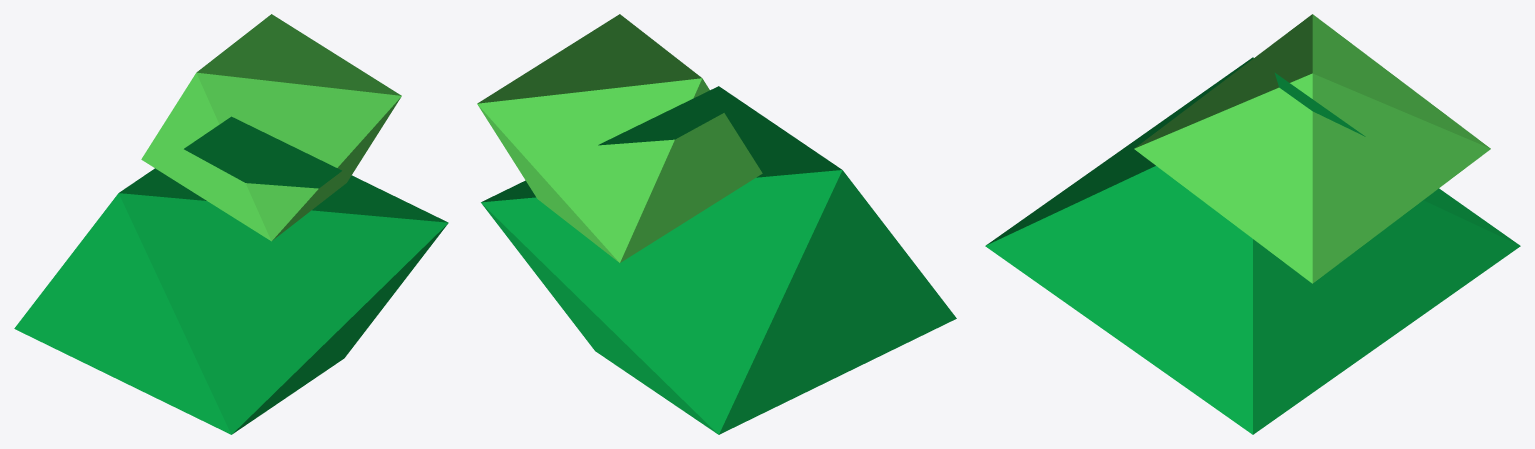
Rendered from bush.gltf.
3 renders of one model, left to right at view 1: azimuth 30°, elevation 25°; view 2: azimuth 150°, elevation 25°; view 3: azimuth 270°, elevation 25°, orthographic. The views are drawn at different scales.
Parts seen in each view (by area): view 1: bush, top; view 2: bush, top; view 3: bush, top.
Boxes of the visible parts, <box> form: bush: <box>14,116,448,434</box>; top: <box>141,14,401,241</box>; bush: <box>481,86,956,434</box>; top: <box>477,14,762,262</box>; bush: <box>985,57,1520,434</box>; top: <box>1134,14,1490,283</box>.
Size of the model in its own units: 1 by 0.85 by 0.9.
